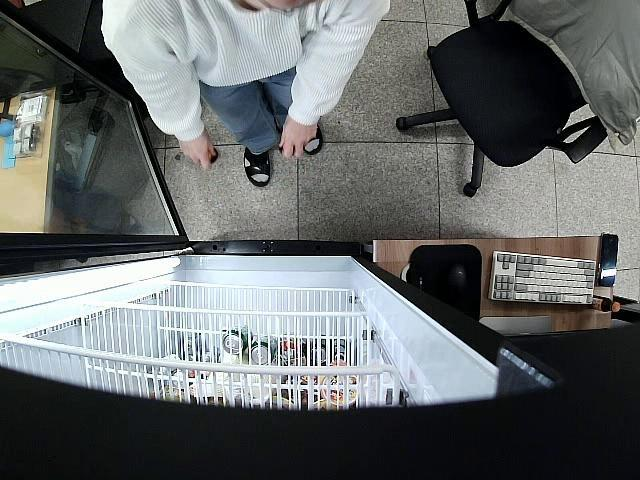17_vita500: (207, 148, 218, 164)
